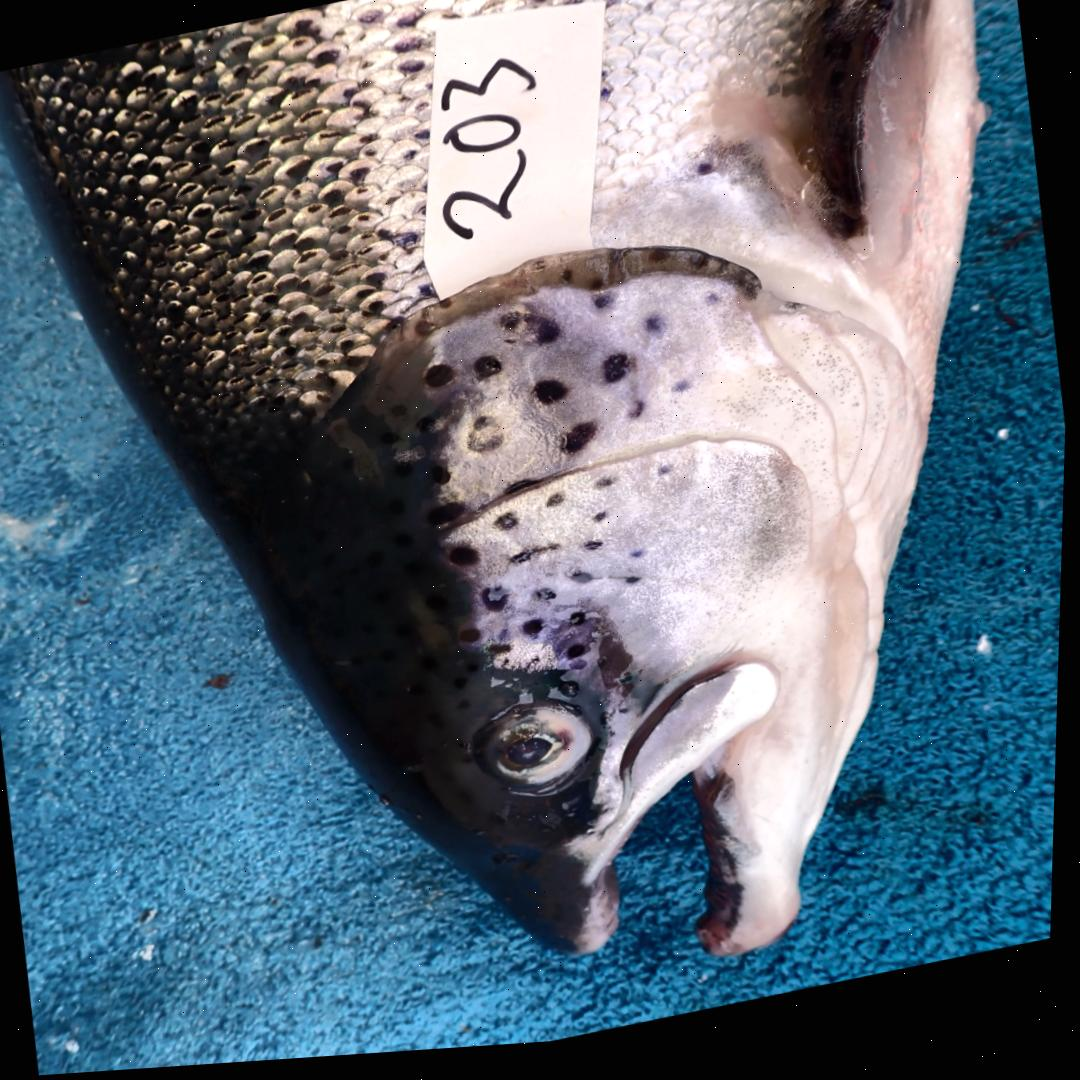spot: (469, 421, 507, 459), (513, 549, 564, 571), (566, 429, 600, 461), (430, 507, 468, 531), (604, 361, 632, 392), (536, 386, 569, 411), (425, 369, 458, 393), (474, 360, 504, 384), (536, 325, 562, 351), (484, 593, 511, 618), (452, 551, 483, 572), (507, 485, 541, 499), (496, 519, 520, 537), (433, 470, 453, 490), (628, 408, 648, 427), (526, 625, 547, 643), (502, 319, 523, 335), (462, 633, 483, 649), (492, 649, 519, 661), (650, 256, 673, 270), (646, 324, 664, 341), (572, 650, 591, 665), (595, 303, 614, 318), (540, 594, 560, 608), (572, 618, 590, 633), (573, 579, 597, 590), (675, 388, 693, 401), (550, 500, 567, 513), (598, 484, 615, 497), (706, 302, 722, 315), (587, 547, 605, 558), (591, 284, 604, 297), (596, 518, 610, 530), (628, 584, 645, 593), (662, 473, 674, 485), (563, 278, 573, 291), (634, 558, 647, 566)
